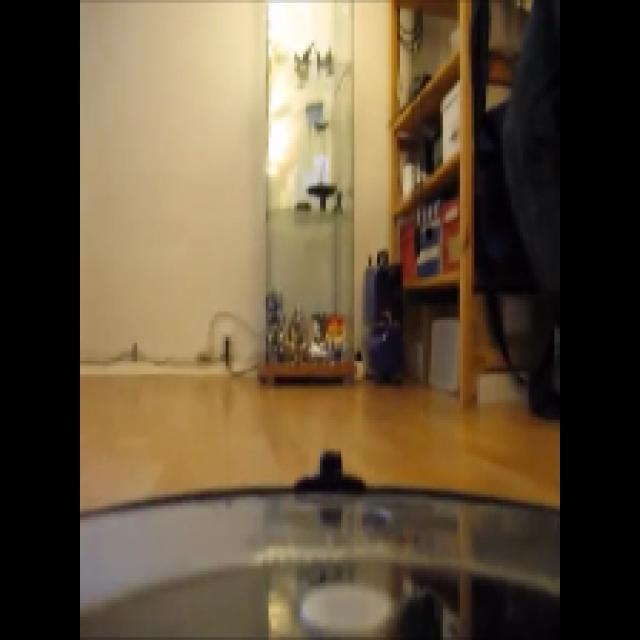Fire: (264, 1, 339, 196)
